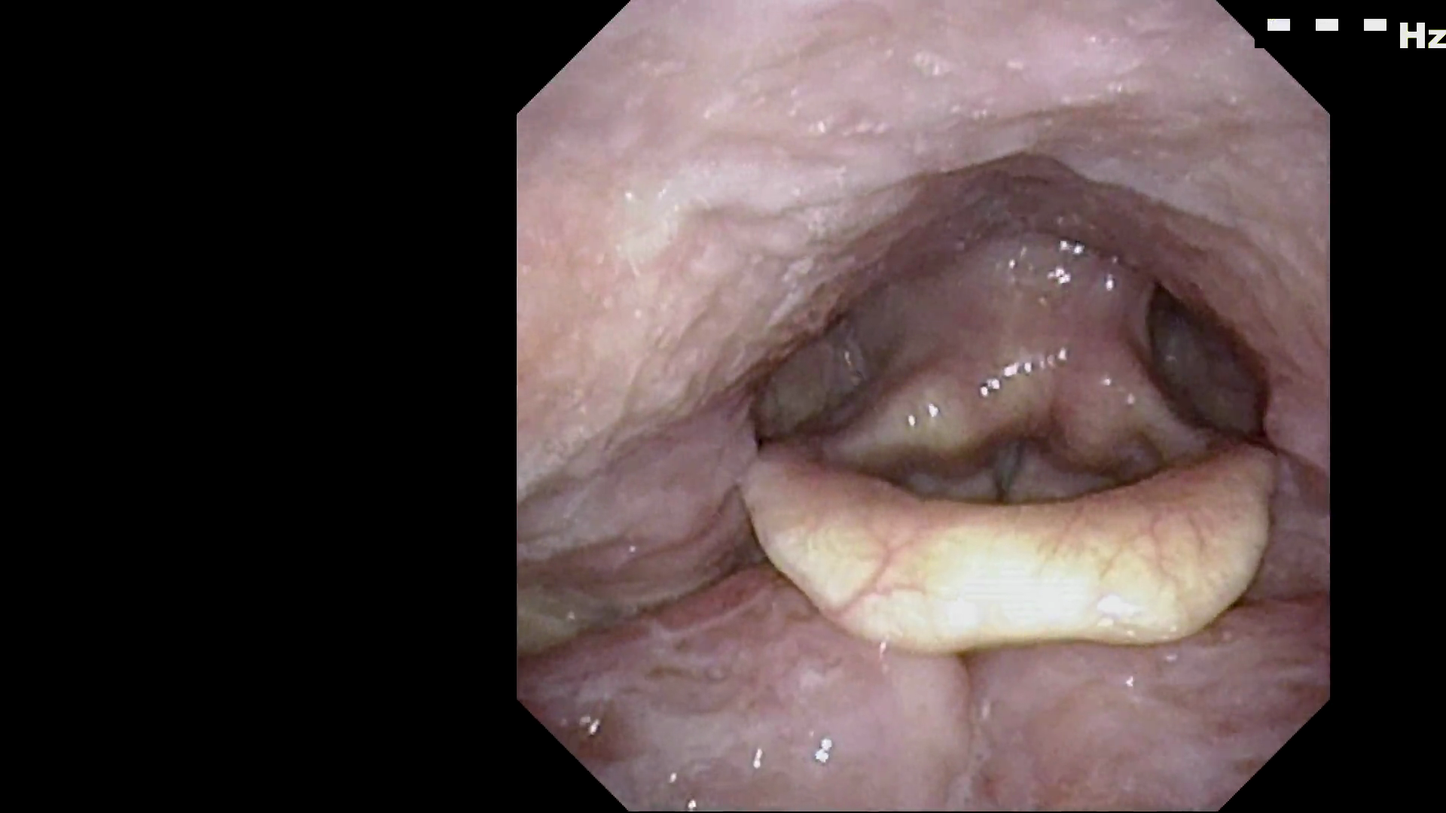epiglottis: (714, 426, 1298, 674)
trachea: (925, 385, 1092, 573)
